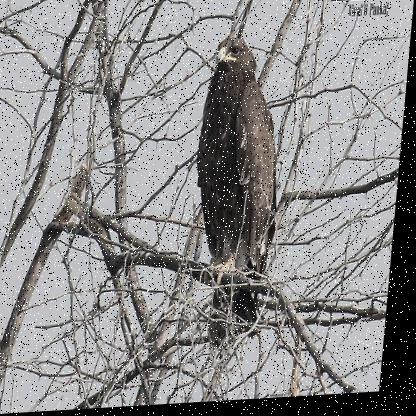Burung: (189, 36, 289, 346)
